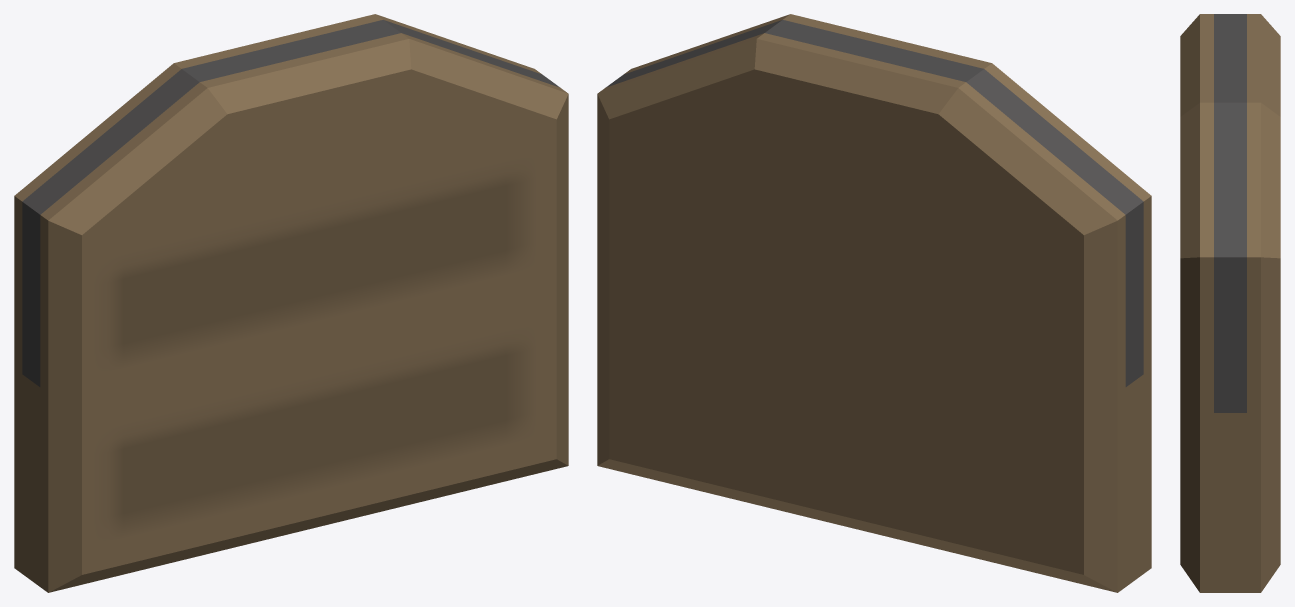
File: SM_Chr_Attach_Padding_01.fbx
The picture shows the model from 3 angles, left to right: view 1: azimuth 30°, elevation 25°; view 2: azimuth 150°, elevation 25°; view 3: azimuth 270°, elevation 25°; orthographic projection. The views are drawn at different scales.
Visible parts, largest first — view 1: SM_Chr_Attach_Padding_01; view 2: SM_Chr_Attach_Padding_01; view 3: SM_Chr_Attach_Padding_01.
Part boxes in pixels (x1=…): SM_Chr_Attach_Padding_01: x1=14, y1=14, x2=568, y2=592; SM_Chr_Attach_Padding_01: x1=597, y1=14, x2=1151, y2=592; SM_Chr_Attach_Padding_01: x1=1180, y1=14, x2=1280, y2=592.
Bounding box in the file's own units: 15.6 × 13.35 × 2.9.
